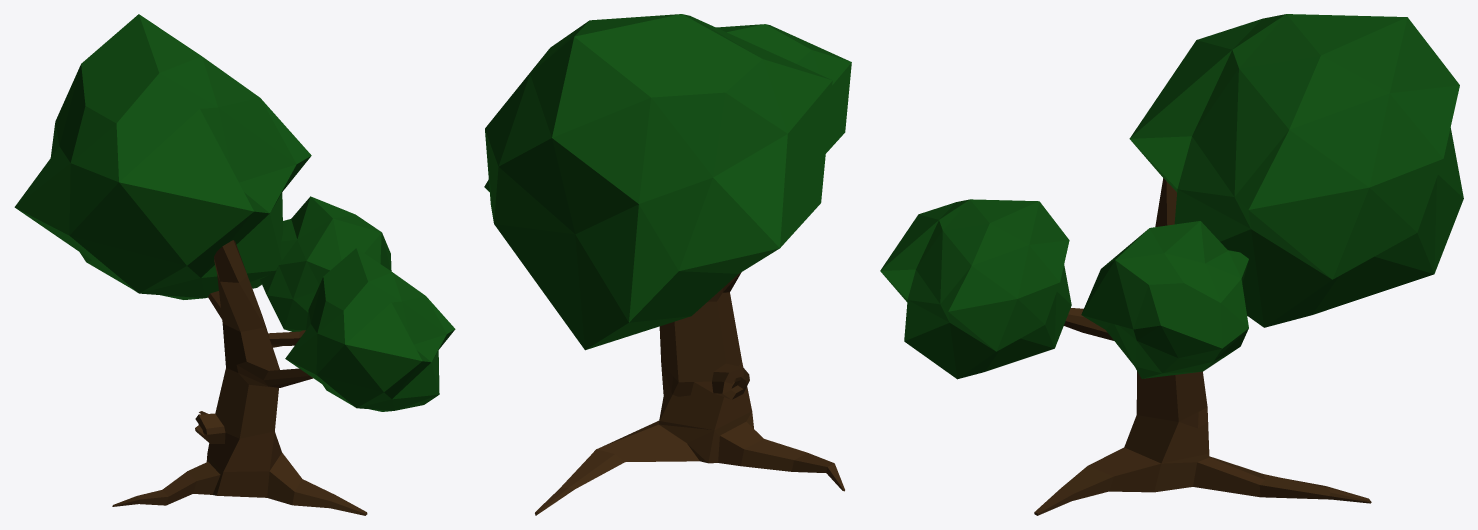
File: tree03.fbx
3 renders of one model, left to right at view 1: azimuth 30°, elevation 25°; view 2: azimuth 150°, elevation 25°; view 3: azimuth 270°, elevation 25°, orthographic. The views are drawn at different scales.
Parts seen in each view (by area): view 1: Cylinder.002; view 2: Cylinder.002; view 3: Cylinder.002.
Part boxes in pixels (x1,y1,x2,y2): Cylinder.002: (14, 14, 455, 515); Cylinder.002: (484, 14, 851, 515); Cylinder.002: (880, 14, 1463, 515).
Bounding box in the file's own units: 804 × 1044 × 1199.
